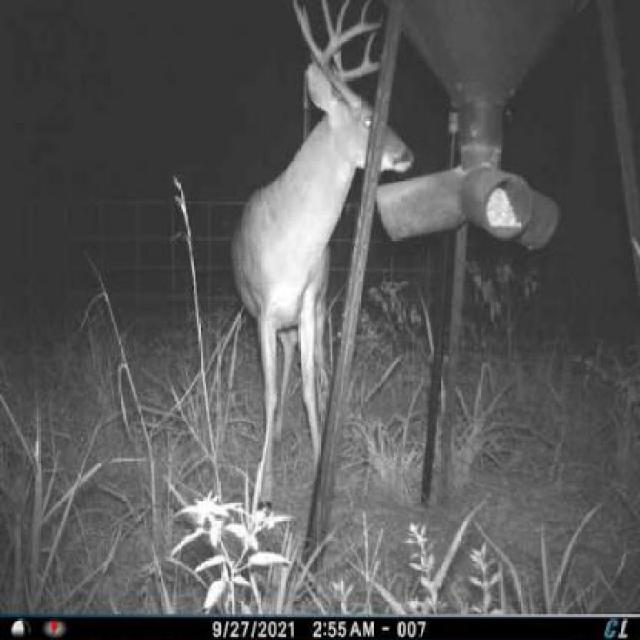Deer: (222, 0, 415, 523)
